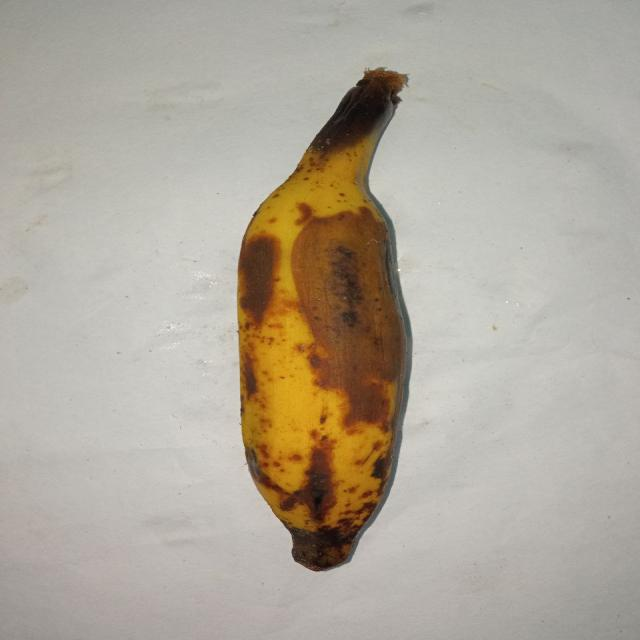rotten_banana: (240, 75, 402, 570)
